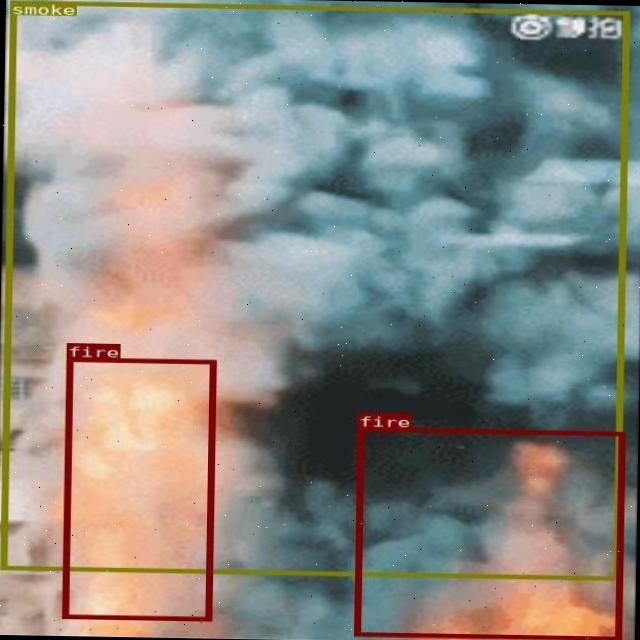fire: (352, 426, 624, 640), (60, 357, 214, 620)
smoke: (0, 0, 628, 579)
